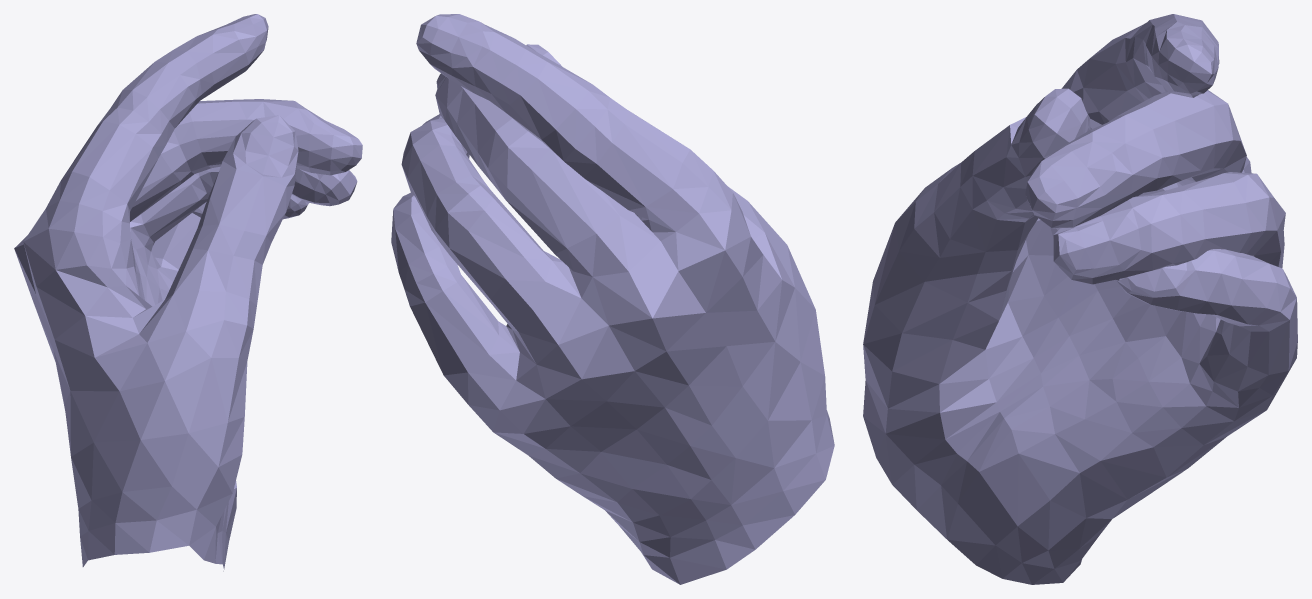
File: hand_0042.glb
The picture shows the model from 3 angles, left to right: view 1: azimuth 30°, elevation 25°; view 2: azimuth 150°, elevation 25°; view 3: azimuth 270°, elevation 25°; orthographic projection. The views are drawn at different scales.
Visible parts, largest first — view 1: world; view 2: world; view 3: world.
Part boxes in pixels (<box>): world: <box>14,14,362,571</box>; world: <box>391,14,834,584</box>; world: <box>863,14,1297,584</box>.
Size of the model in its own units: 0.0967 by 0.1476 by 0.0925.
